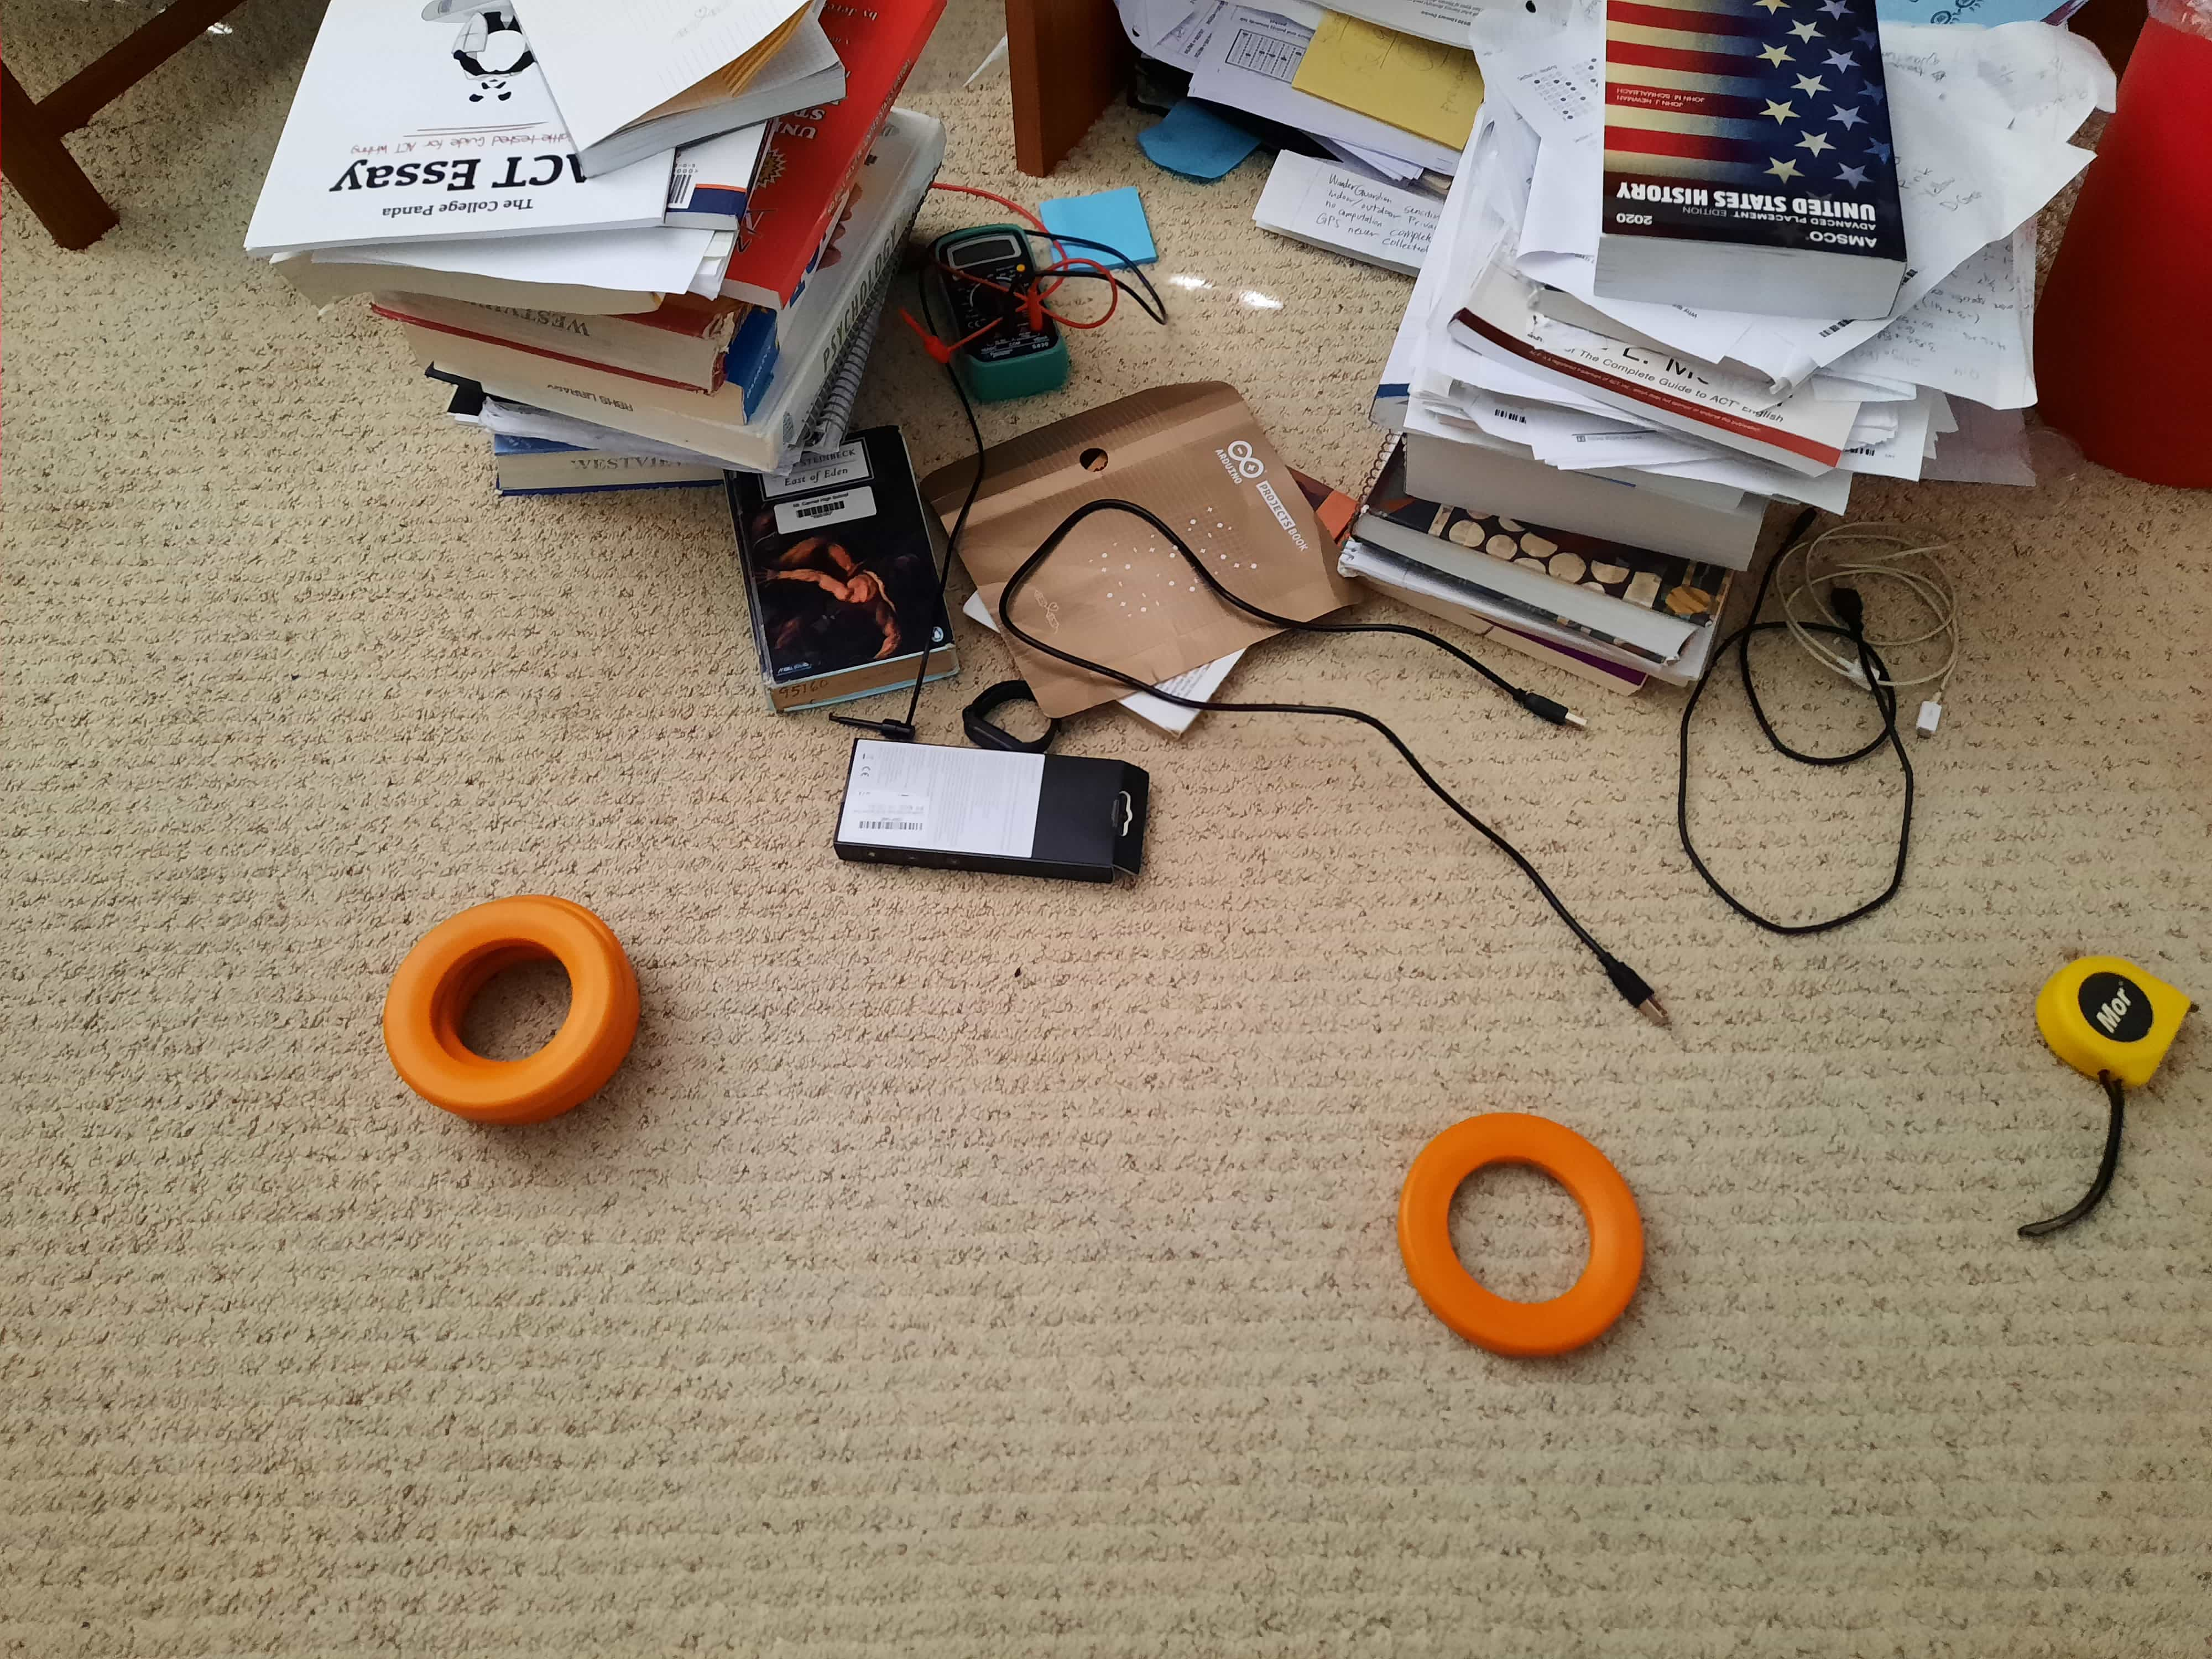FourStack: (381, 906, 632, 1108)
OneStack: (1392, 1121, 1648, 1351)
